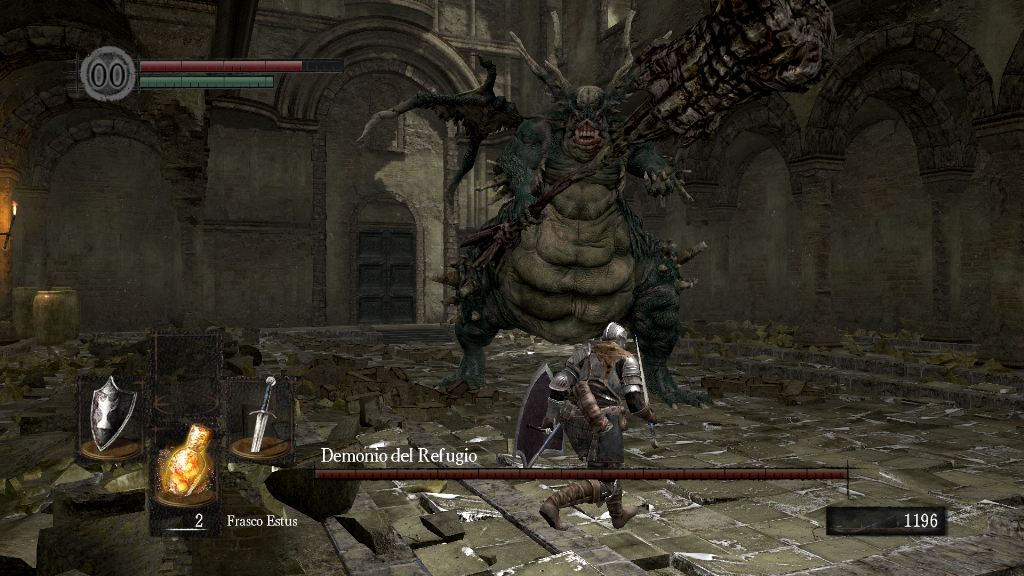asylumDemon: (356, 9, 838, 412)
bossHP: (314, 469, 847, 479)
health: (138, 58, 343, 71)
humanity: (80, 45, 136, 102)
player: (512, 322, 661, 532)
souls: (825, 506, 945, 536)
stamina: (138, 74, 274, 88)
